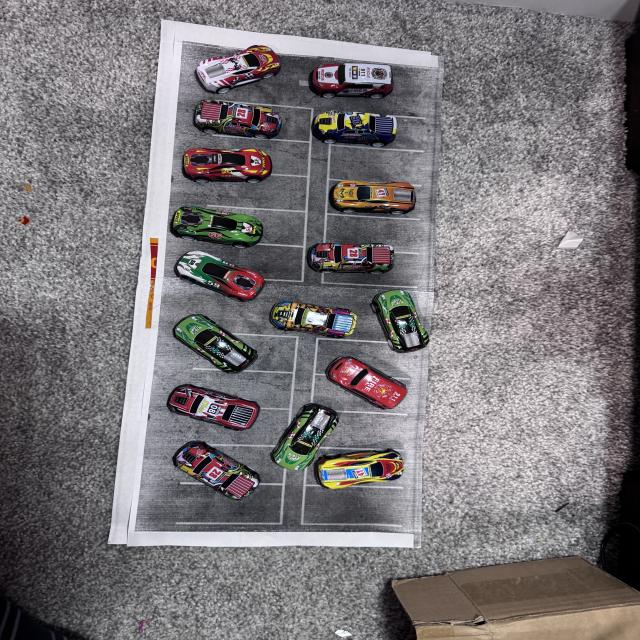car: (164, 433, 286, 540), (140, 373, 268, 439), (170, 306, 256, 390), (147, 249, 260, 310), (362, 287, 462, 353), (306, 358, 420, 414), (316, 171, 436, 222), (301, 52, 418, 104), (163, 200, 269, 257), (184, 93, 296, 144), (174, 142, 282, 193), (300, 106, 426, 146), (272, 396, 335, 475), (314, 450, 420, 492), (300, 238, 401, 276), (188, 52, 281, 93), (276, 304, 350, 338)
